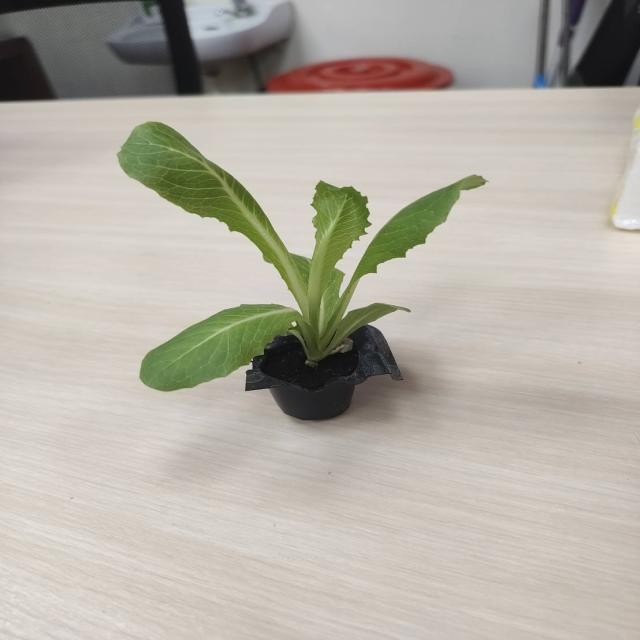Lettuce-Not-Ready-to-Harvest: (118, 122, 485, 390)
